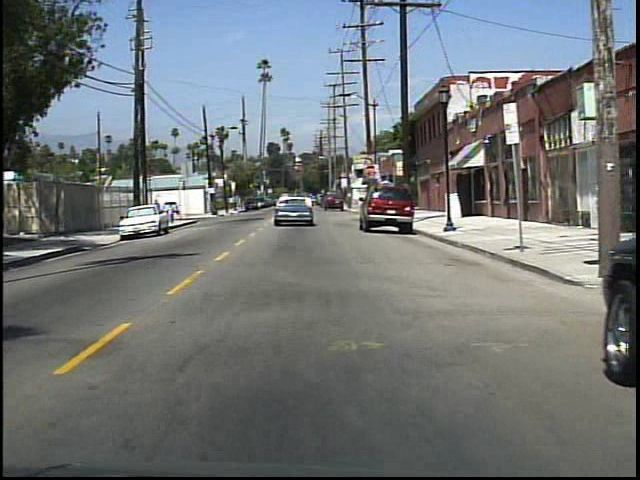person: (150, 195, 164, 225), (166, 199, 179, 224)
